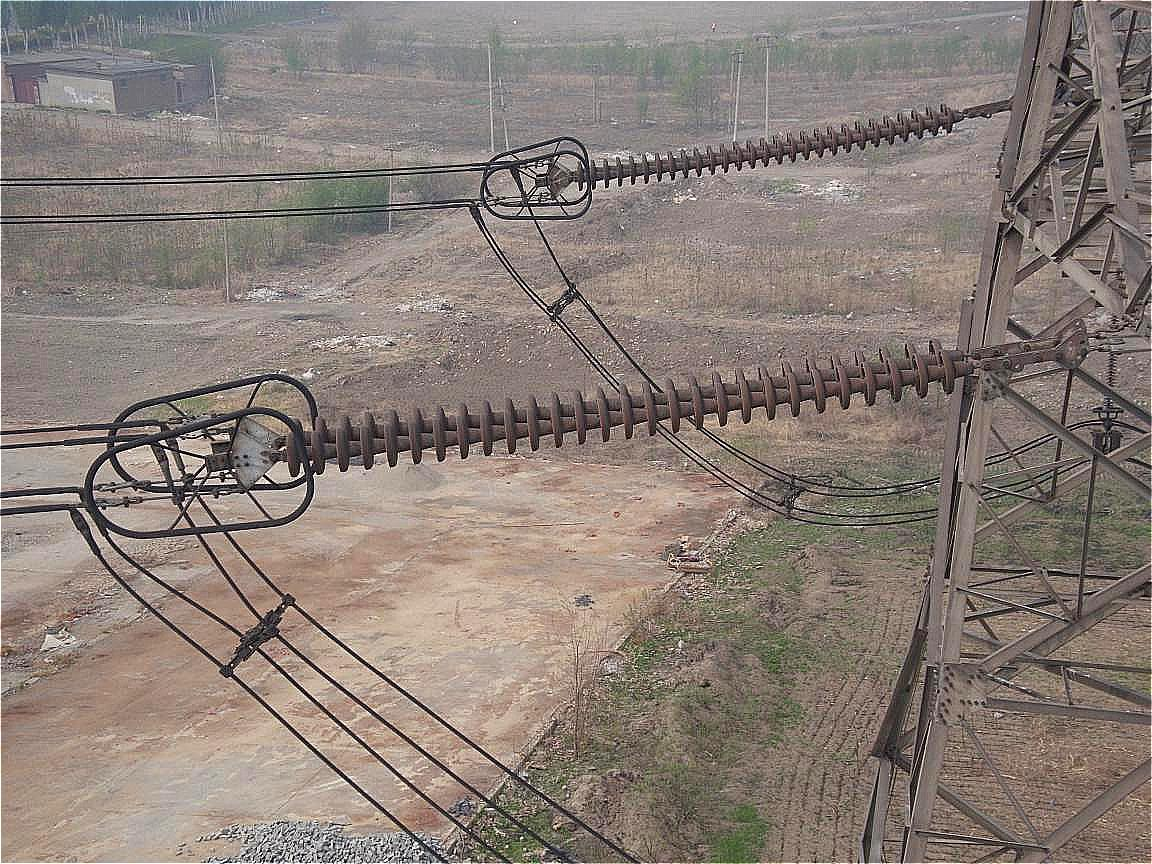insultor1: (225, 328, 976, 489), (548, 91, 963, 204)
